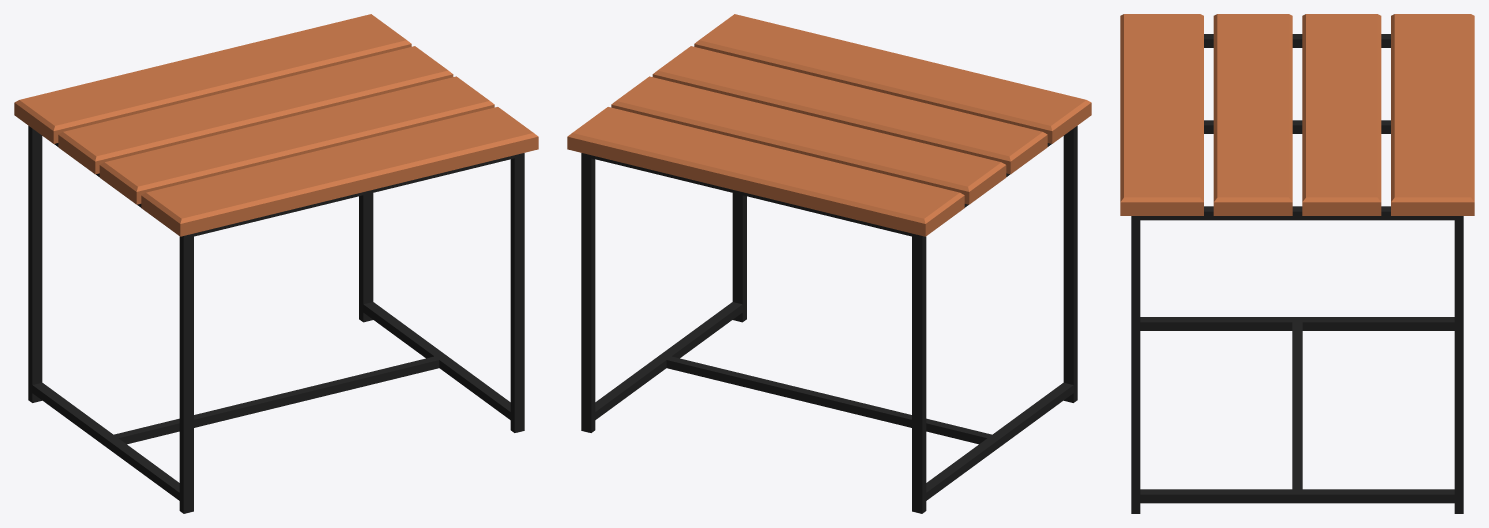
The model's file is desk_short.glb.
3 renders of one model, left to right at view 1: azimuth 30°, elevation 25°; view 2: azimuth 150°, elevation 25°; view 3: azimuth 270°, elevation 25°, orthographic. The views are drawn at different scales.
Parts seen in each view (by area): view 1: desk_short; view 2: desk_short; view 3: desk_short.
Part boxes in pixels (left/top/right/bottom): desk_short: left=14, top=14, right=538, bottom=513; desk_short: left=567, top=14, right=1091, bottom=513; desk_short: left=1120, top=14, right=1474, bottom=513.
Size of the model in its own units: 0.9968 by 0.7954 by 0.8.
